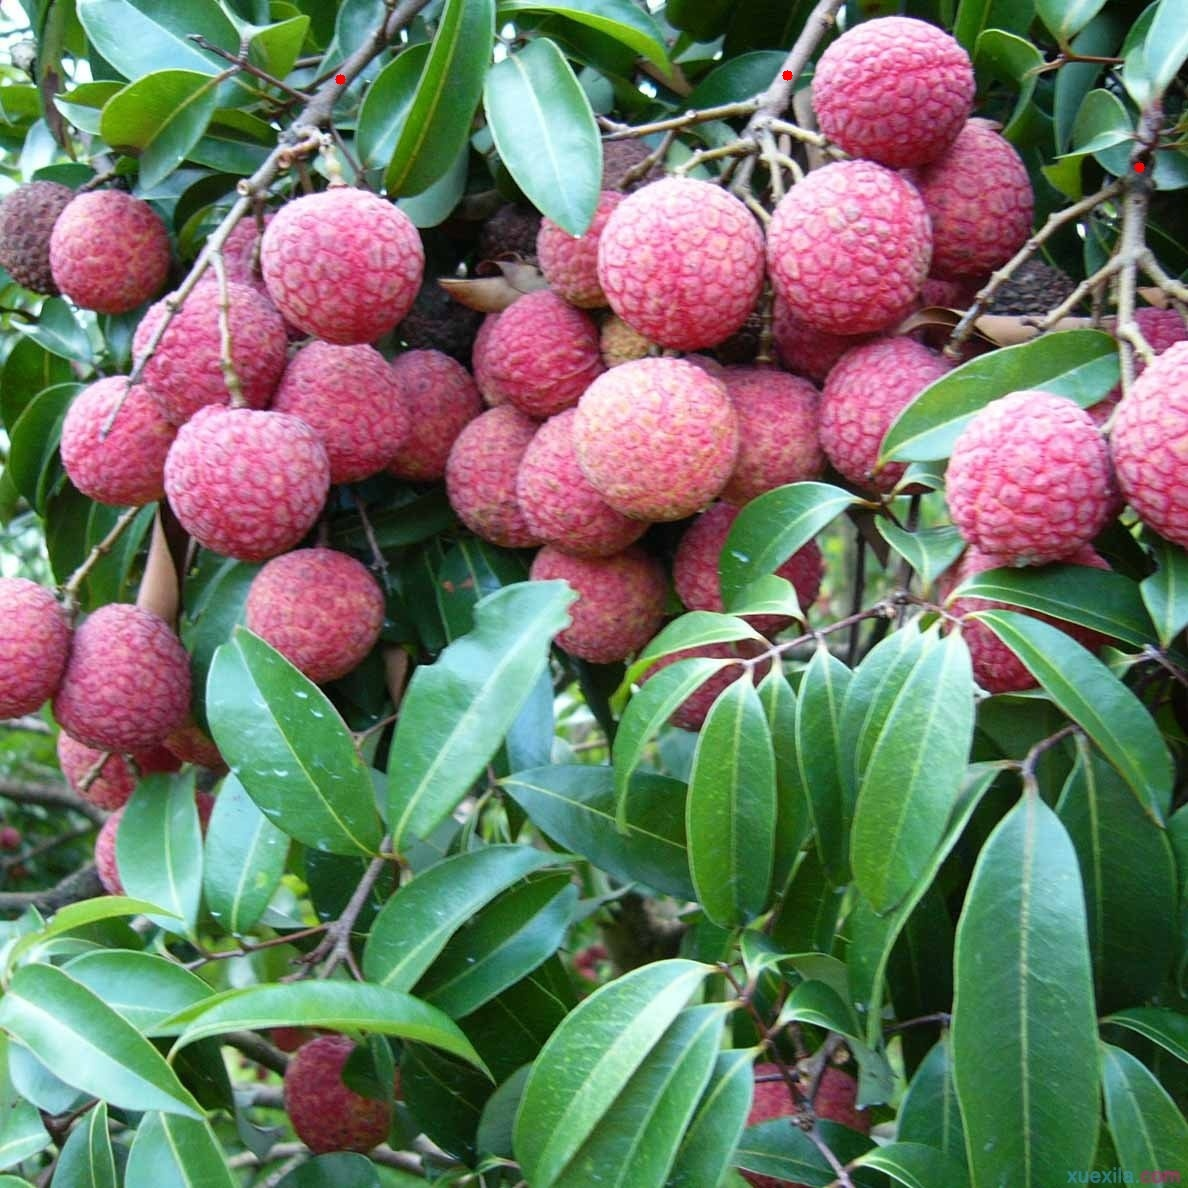litchi: (459, 38, 1012, 703), (3, 182, 450, 889), (958, 308, 1187, 682)
stem: (263, 1, 430, 170), (736, 1, 844, 146), (1102, 92, 1164, 281)
